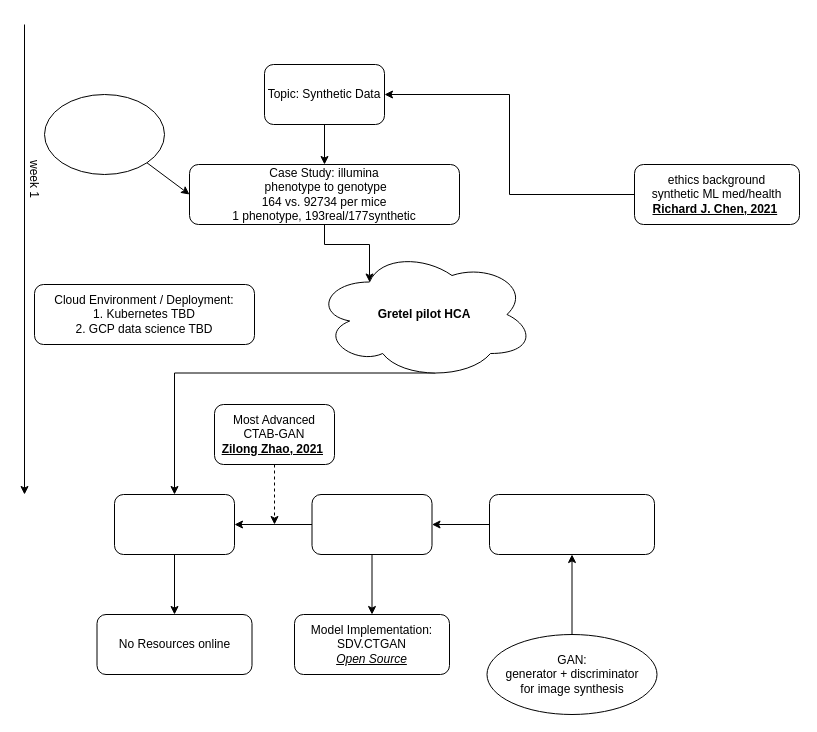
Image size: 817x732. Some labels were removed from this diagram. Each missing label, with the centre of its shape:
"Algorithm: ACTGAN (gretel)" goes at point (174, 524).
"data - Open Source nature genetic pub replicating" goes at point (104, 134).
"First Appeared in tabular form TableGAN Noseong Park, 2018" goes at point (571, 524).
"Original Algorithm: CTGAN Lei Xu, 2019" goes at point (371, 524).
